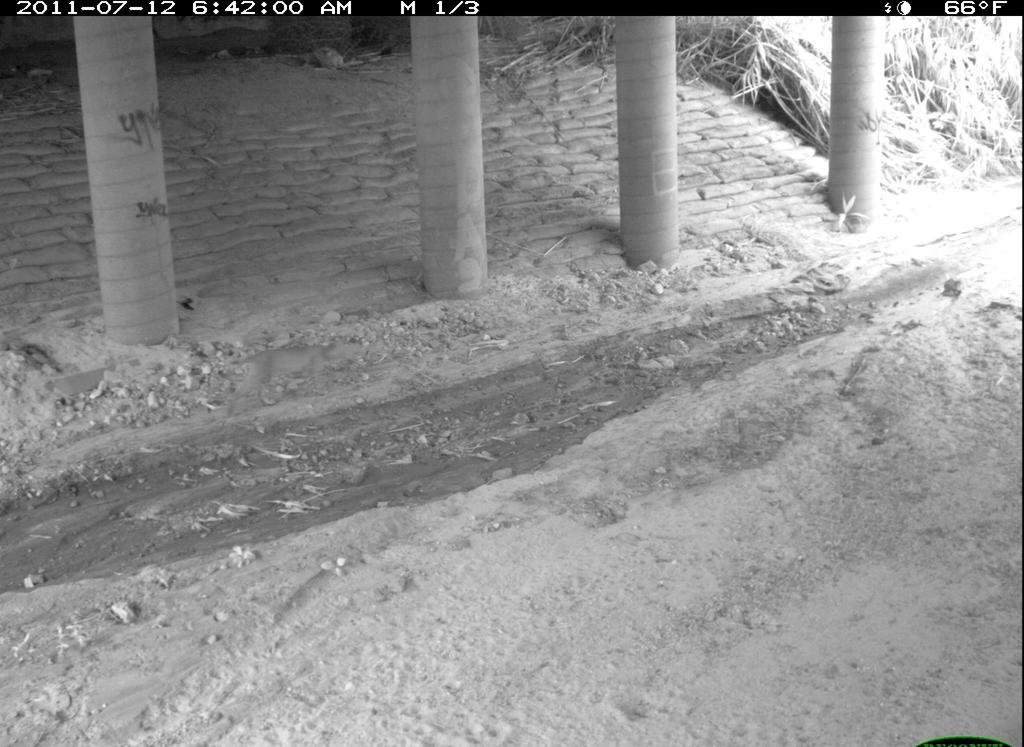bobcat: (437, 670, 705, 747)
